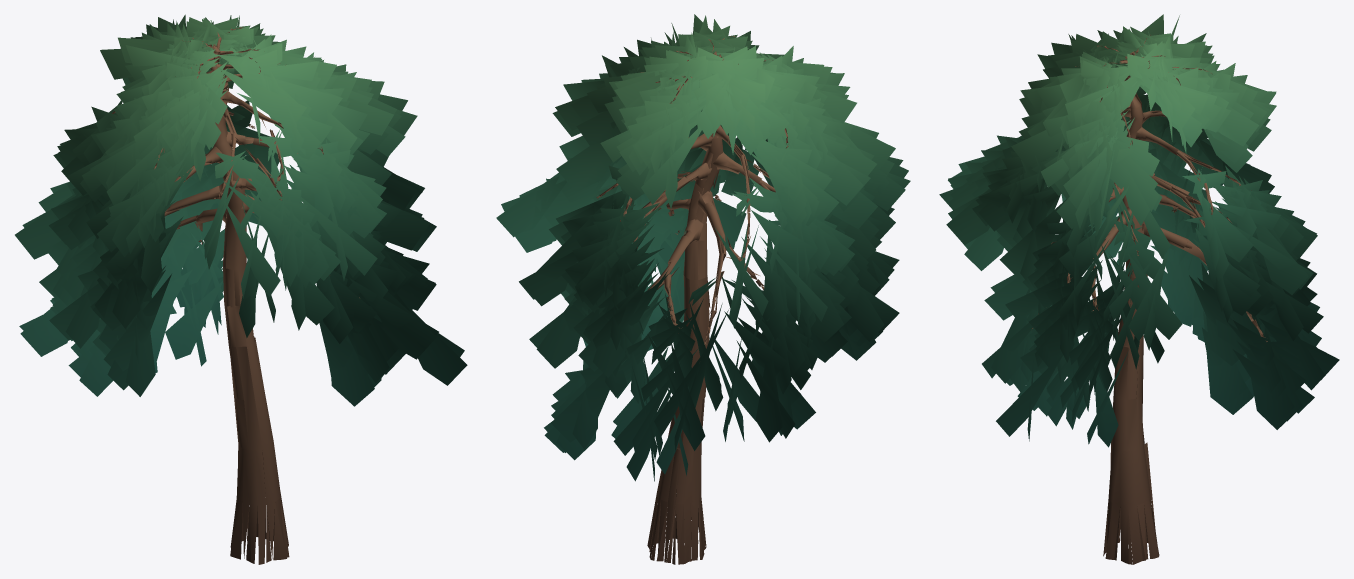
File: q_tree_cedar.glb
The picture shows the model from 3 angles, left to right: view 1: azimuth 30°, elevation 25°; view 2: azimuth 150°, elevation 25°; view 3: azimuth 270°, elevation 25°; orthographic projection. The views are drawn at different scales.
Parts seen in each view (by area): view 1: Leaves, Trunk; view 2: Leaves, Trunk; view 3: Leaves, Trunk.
Boxes of the visible parts, x1=… form: Leaves: x1=15, y1=14, x2=467, y2=406; Trunk: x1=112, y1=27, x2=359, y2=564; Leaves: x1=496, y1=14, x2=910, y2=481; Trunk: x1=596, y1=36, x2=788, y2=564; Leaves: x1=939, y1=14, x2=1339, y2=447; Trunk: x1=1032, y1=35, x2=1267, y2=564.
Size of the model in its own units: 6.03 by 8 by 5.89.
